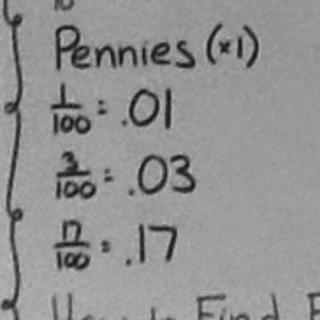.: (122, 255, 134, 271), (126, 187, 139, 200), (121, 116, 129, 129)
0: (127, 85, 161, 130), (136, 153, 170, 197)
1: (135, 220, 151, 269), (161, 85, 175, 132)
3: (168, 148, 199, 199)
7: (148, 219, 180, 265)
